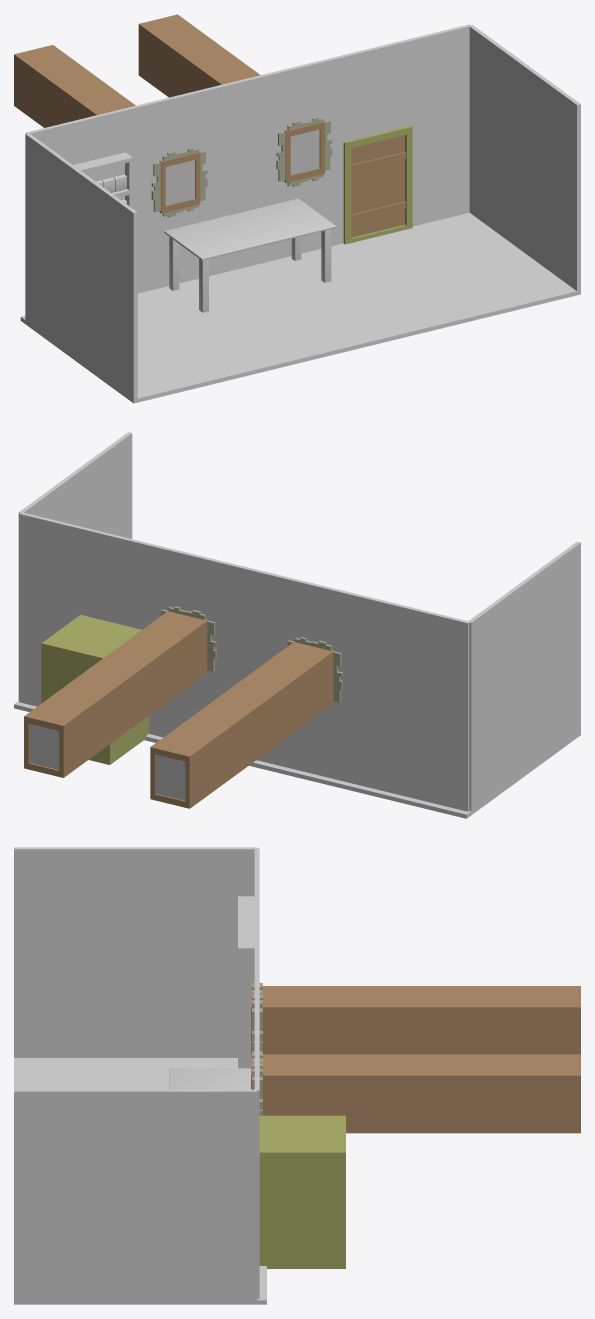
File: inside house.fbx
The picture shows the model from 3 angles, top to bottom: view 1: azimuth 30°, elevation 25°; view 2: azimuth 150°, elevation 25°; view 3: azimuth 270°, elevation 25°; orthographic projection. The views are drawn at different scales.
Visible parts, largest first — view 1: Cube_3_3, Cube_3_2, Cube_1_3, Cube_2_3, Tube_12, Tube_12_2, Cube_4, Cube_7, Cube_6, Cube_2_2, Cube_5_13_2, Cube_5_13 (+3 smaller); view 2: Cube_3_3, Cube_1_3, Tube_12_2, Tube_12, Cube_2_3, Cube_6, Cube_3_2, Cube_5_13_2, Cube_5_13; view 3: Cube_2_3, Cube_1_3, Tube_12, Tube_12_2, Cube_6, Cube_3_2, Cube_2_2, Cube_3_3, Cube_4.
Part boxes in pixels (x1,y1,x2,y2): Cube_3_3: [26, 24, 470, 293]; Cube_3_2: [20, 212, 580, 403]; Cube_1_3: [25, 133, 137, 402]; Cube_2_3: [469, 25, 580, 294]; Tube_12: [138, 14, 324, 182]; Tube_12_2: [14, 45, 200, 213]; Cube_4: [164, 198, 336, 260]; Cube_7: [351, 135, 404, 237]; Cube_6: [343, 126, 412, 244]; Cube_2_2: [73, 152, 132, 208]; Cube_5_13_2: [165, 160, 194, 205]; Cube_5_13: [290, 129, 319, 174]; Cube_3_3: [19, 512, 469, 811]; Cube_1_3: [468, 541, 580, 813]; Tube_12_2: [150, 642, 334, 808]; Tube_12: [24, 611, 208, 777]; Cube_2_3: [18, 432, 132, 700]; Cube_6: [41, 615, 148, 764]; Cube_3_2: [14, 701, 580, 818]; Cube_5_13_2: [155, 754, 185, 800]; Cube_5_13: [29, 724, 58, 769]; Cube_2_3: [14, 1089, 256, 1303]; Cube_1_3: [14, 847, 256, 1057]; Tube_12: [251, 1054, 580, 1133]; Tube_12_2: [251, 986, 580, 1054]; Cube_6: [259, 1115, 345, 1268]; Cube_3_2: [14, 1058, 266, 1304]; Cube_2_2: [238, 896, 254, 1068]; Cube_3_3: [254, 848, 259, 1298]; Cube_4: [169, 1068, 250, 1089].
Bounding box in the file's own units: 494 × 201 × 485.
